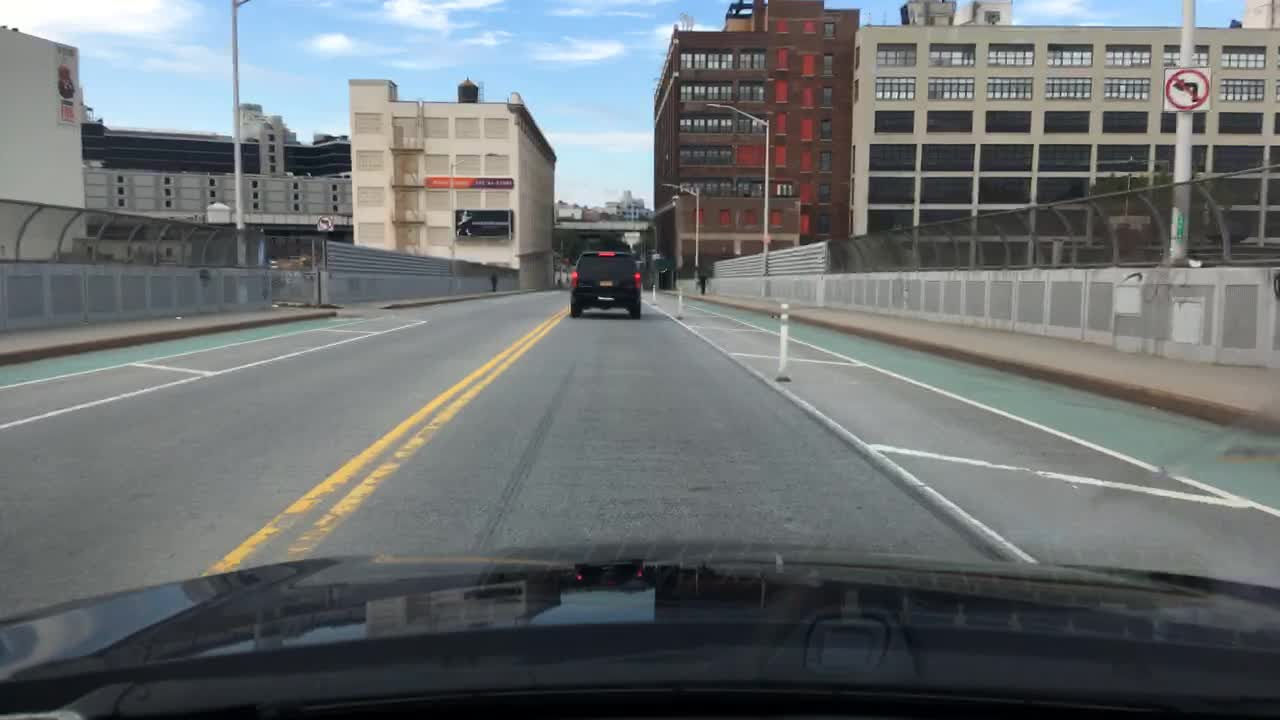car: (568, 250, 643, 318)
person: (696, 269, 712, 293)
traffic sign: (1163, 66, 1210, 112), (316, 215, 333, 231)
